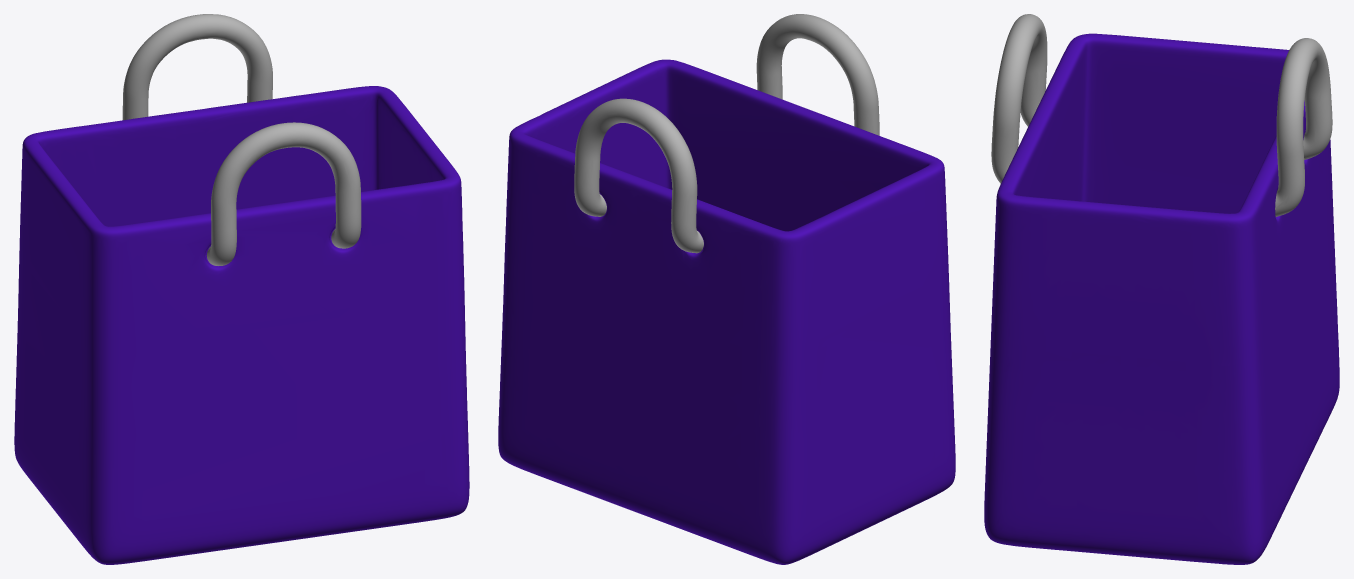
File: bag.glb
The picture shows the model from 3 angles, left to right: view 1: azimuth 30°, elevation 25°; view 2: azimuth 150°, elevation 25°; view 3: azimuth 270°, elevation 25°; orthographic projection. The views are drawn at different scales.
Visible parts, largest first — view 1: Bag-Box; view 2: Bag-Box; view 3: Bag-Box.
Boxes of the visible parts, bbox=[...] form: Bag-Box: bbox=[14, 14, 469, 564]; Bag-Box: bbox=[498, 14, 955, 564]; Bag-Box: bbox=[984, 14, 1339, 564].
Bounding box in the file's own units: 1.8 × 1.92 × 1.39.
